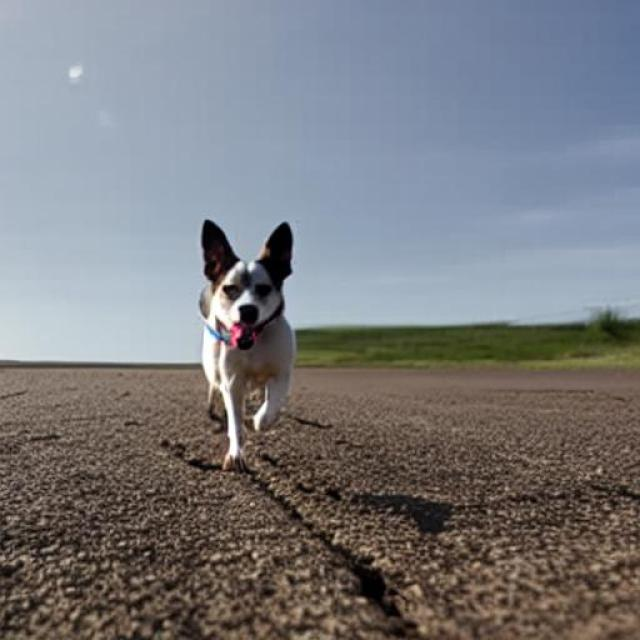Dog: (200, 218, 298, 470)
